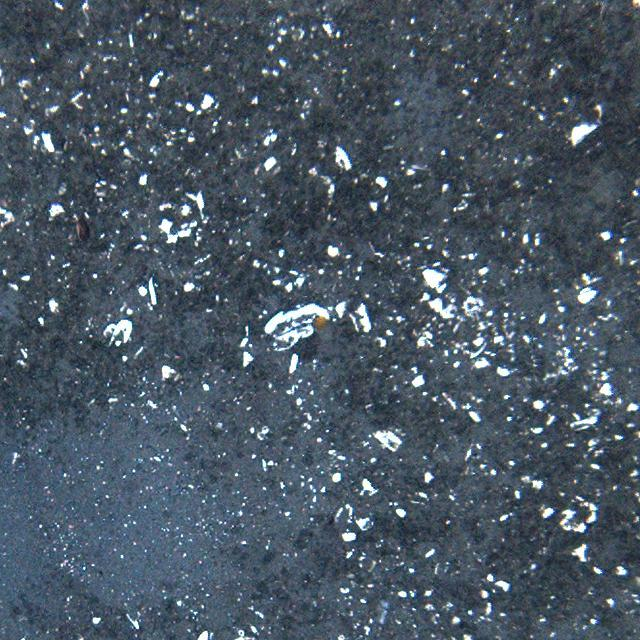scallop: (312, 313, 328, 333)
